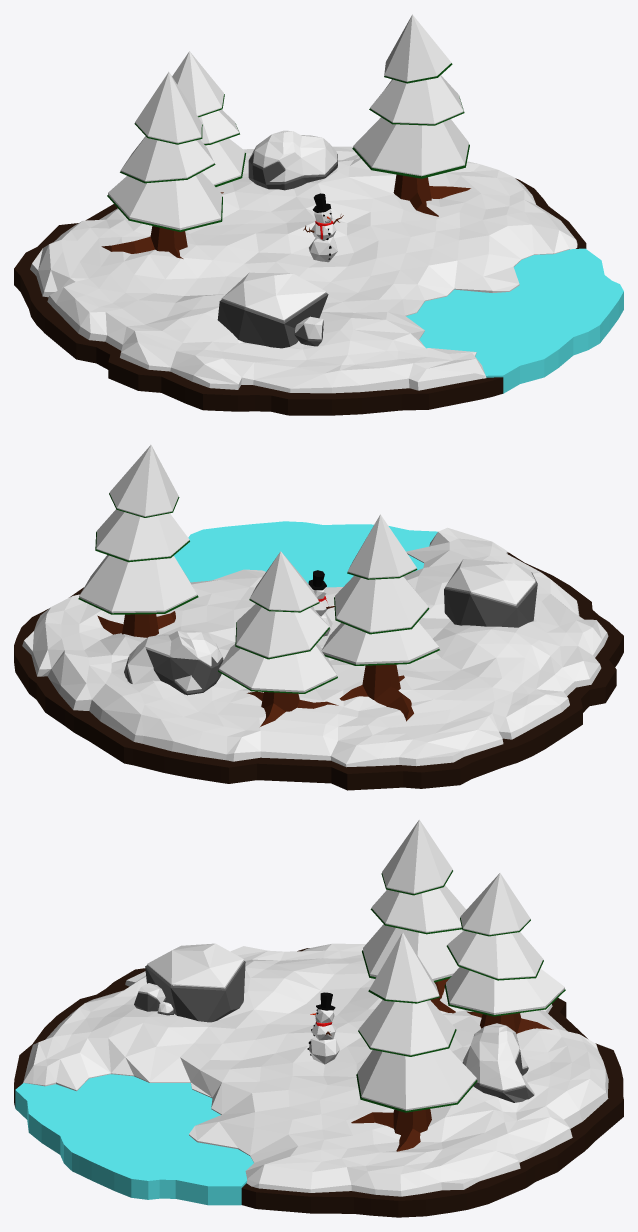
File: Snow Scene.fbx
3 renders of one model, top to bottom at view 1: azimuth 30°, elevation 25°; view 2: azimuth 150°, elevation 25°; view 3: azimuth 270°, elevation 25°, orthographic. The views are drawn at different scales.
Parts seen in each view (by area): view 1: dirt001, Cylinder003, Cylinder001, Cylinder002, GeoSphere006, GeoSphere009, GeoSphere001, snow man, GeoSphere002; view 2: dirt001, Cylinder003, Cylinder001, Cylinder002, GeoSphere009, GeoSphere006, GeoSphere001, GeoSphere002, snow man; view 3: dirt001, Cylinder003, Cylinder002, Cylinder001, GeoSphere009, GeoSphere006, GeoSphere001, snow man, GeoSphere002.
Part boxes in pixels (x1,y1,x2,y2): dirt001: [14, 146, 623, 415]; Cylinder003: [352, 14, 470, 216]; Cylinder001: [101, 72, 222, 258]; Cylinder002: [172, 51, 245, 193]; GeoSphere006: [221, 272, 326, 321]; GeoSphere009: [249, 130, 337, 181]; GeoSphere001: [217, 293, 328, 348]; snow man: [303, 193, 343, 262]; GeoSphere002: [248, 153, 337, 190]; dirt001: [14, 521, 623, 790]; Cylinder003: [78, 445, 198, 637]; Cylinder001: [321, 514, 439, 721]; Cylinder002: [218, 551, 338, 726]; GeoSphere009: [127, 630, 222, 691]; GeoSphere006: [445, 559, 535, 605]; GeoSphere001: [444, 572, 537, 627]; GeoSphere002: [124, 649, 223, 695]; snow man: [308, 570, 334, 636]; dirt001: [14, 943, 623, 1217]; Cylinder003: [351, 932, 477, 1151]; Cylinder002: [444, 873, 565, 1033]; Cylinder001: [362, 819, 466, 1013]; GeoSphere009: [463, 1023, 534, 1094]; GeoSphere006: [147, 943, 243, 988]; GeoSphere001: [145, 961, 245, 1022]; snow man: [307, 992, 339, 1064]; GeoSphere002: [462, 1050, 534, 1102].
Size of the model in its own units: 838 by 349 by 855.
